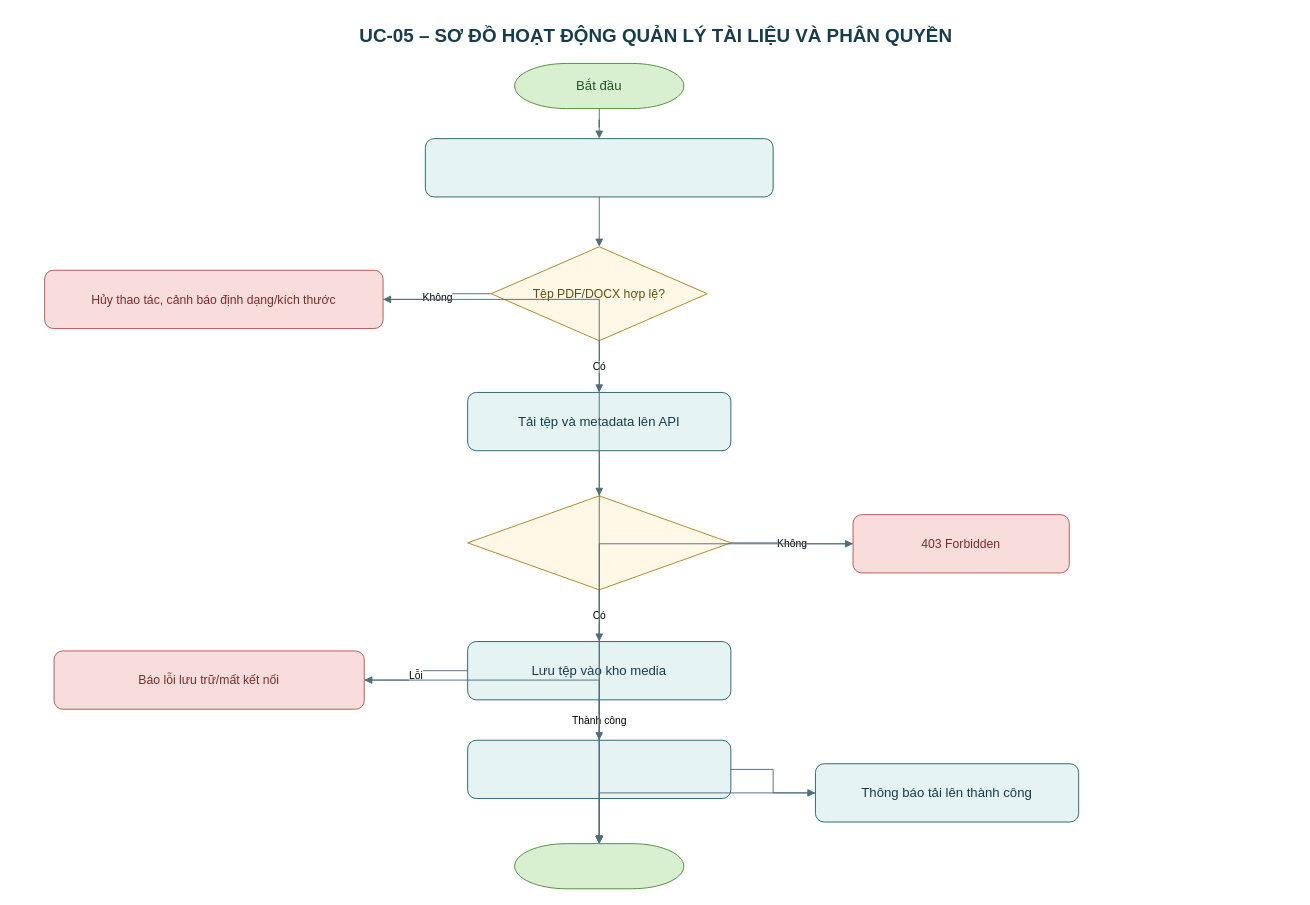
The diagram is 1310 pixels wide and 905 high, and some of its shapes have lost their labels. The box of each missing label's shape, as (x1, y1, x2, y2) in pixels:
Admin chọn tệp và nhập metadata/phân quyền: (424, 138, 773, 197)
Admin có quyền trên organization scope?: (467, 495, 731, 590)
Kết thúc: (514, 843, 684, 889)
Lưu Document + Permission, trạng thái PENDING: (467, 739, 731, 799)
